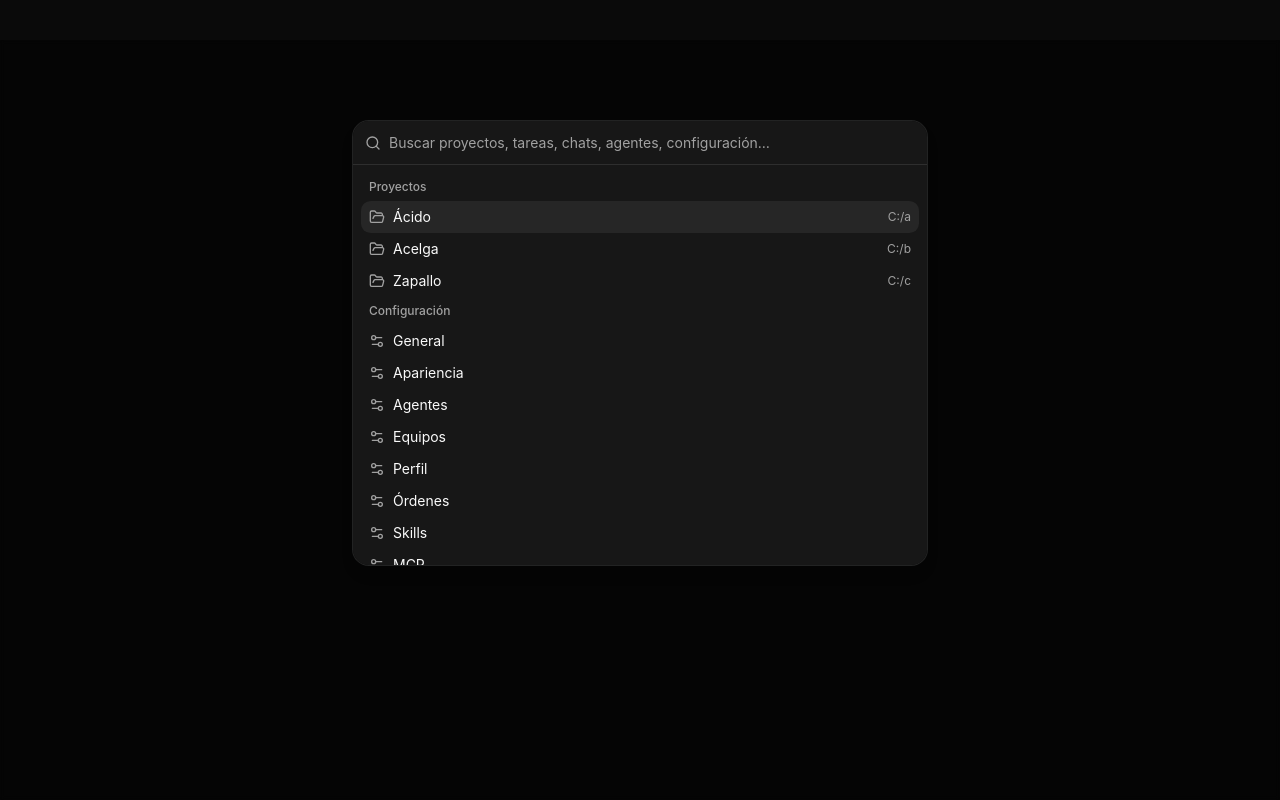
Test: SearchPalette › says when nothing matches
Type "qqq" into the dropdown at (652, 142), box [389,121,915,164]
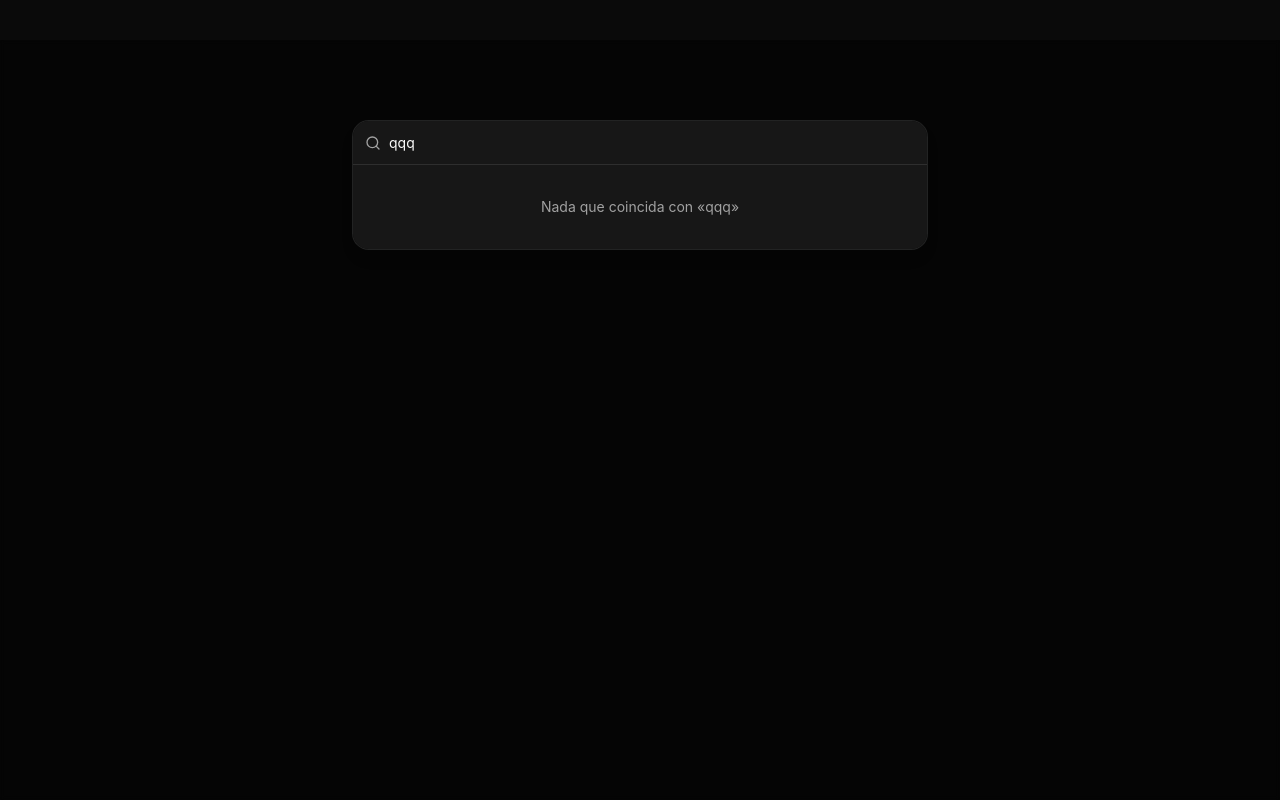
Expected: the text "qqq" is shown, [541,198,739,215]
Expected: no options are shown
